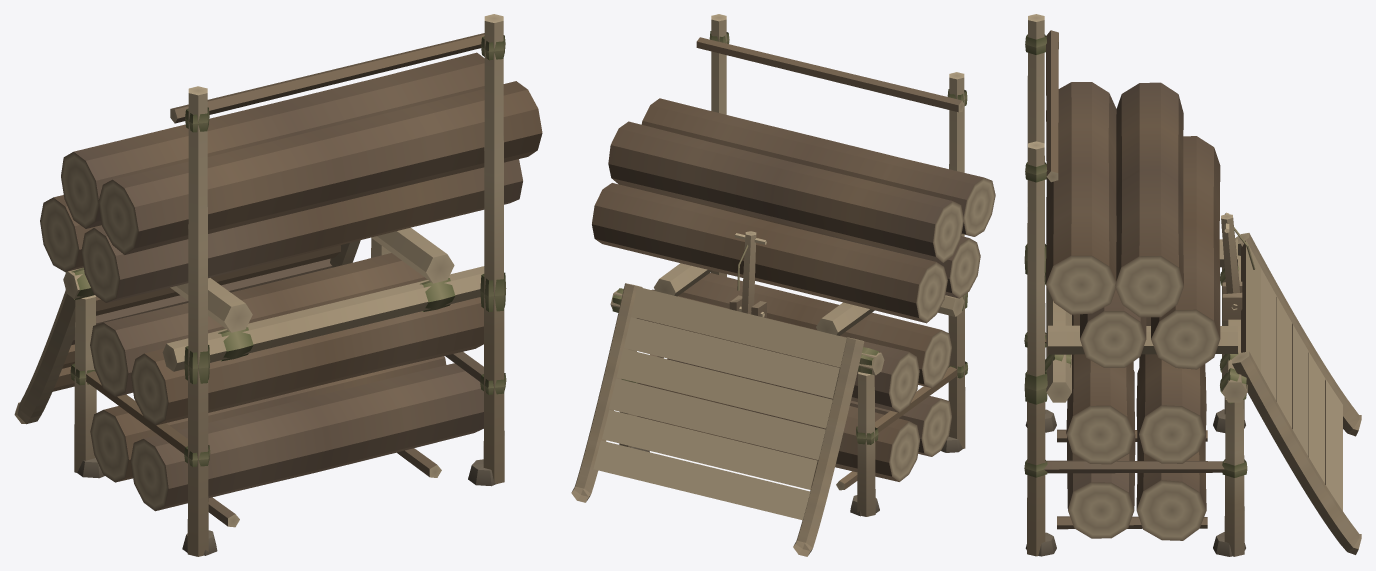
File: log_tower_a.glb
3 renders of one model, left to right at view 1: azimuth 30°, elevation 25°; view 2: azimuth 150°, elevation 25°; view 3: azimuth 270°, elevation 25°, orthographic. The views are drawn at different scales.
Parts seen in each view (by area): view 1: Base, Store3, Log3, Store2, Log1, Log2, Log0; view 2: Base, Log2, Log0, Log3, Store3, Store2, Log1, Lever; view 3: Base, Store3, Log2, Log3, Store2, Log0, Log1, Lever.
Boxes of the visible parts, left/top/right/bottom form: Base: left=14, top=14, right=506, bottom=556; Store3: left=70, top=253, right=506, bottom=467; Log3: left=98, top=81, right=542, bottom=254; Store2: left=90, top=356, right=483, bottom=527; Log1: left=81, top=159, right=522, bottom=302; Log2: left=61, top=52, right=484, bottom=228; Log0: left=40, top=195, right=101, bottom=271; Base: left=571, top=14, right=967, bottom=556; Log2: left=608, top=121, right=963, bottom=262; Log0: left=592, top=183, right=947, bottom=323; Log3: left=641, top=98, right=995, bottom=236; Store3: left=621, top=273, right=967, bottom=444; Store2: left=637, top=358, right=951, bottom=490; Log1: left=634, top=188, right=980, bottom=298; Lever: left=735, top=231, right=766, bottom=314; Base: left=1024, top=14, right=1361, bottom=556; Store3: left=1024, top=314, right=1247, bottom=477; Log2: left=1115, top=82, right=1183, bottom=317; Log3: left=1046, top=82, right=1116, bottom=314; Store2: left=1057, top=368, right=1207, bottom=540; Log0: left=1151, top=136, right=1220, bottom=369; Log1: left=1080, top=289, right=1146, bottom=367; Lever: left=1221, top=212, right=1255, bottom=293.
Size of the model in its own units: 2.4 by 2.65 by 1.97.
